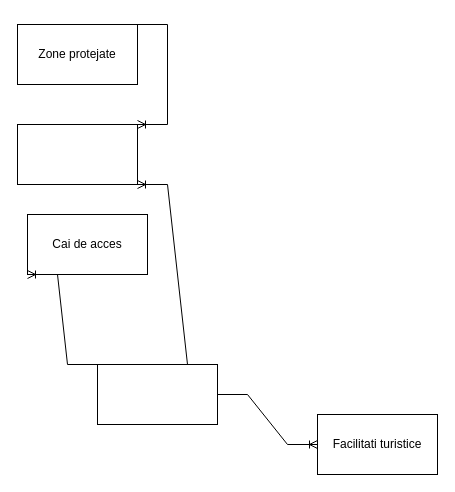
Some shapes in this 455 by 492 pixel diagram are drawn without their labels. The shapes that lost their labels are listed below. From the top down, each one's centre as x and y in pixels, then its label:
At (77,154): "Puncte interes".
At (157,394): "Trasee turistice".
